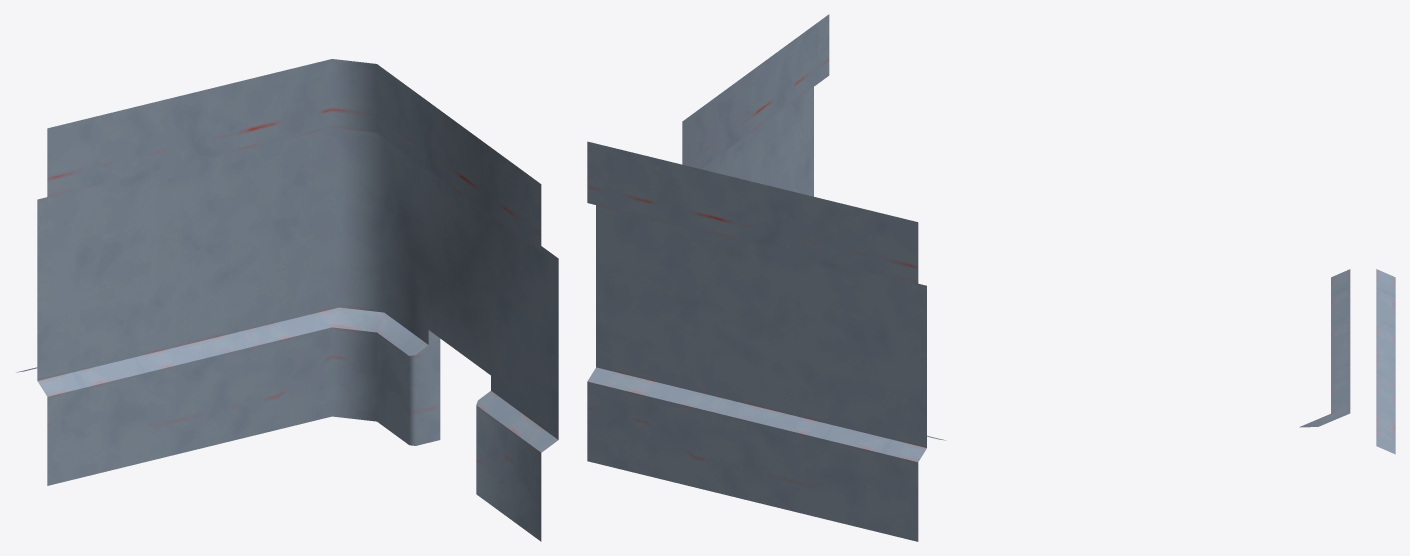
Rendered from Wall_MTNDoorCorner_B_1_F.glb.
3 renders of one model, left to right at view 1: azimuth 30°, elevation 25°; view 2: azimuth 150°, elevation 25°; view 3: azimuth 270°, elevation 25°, orthographic. The views are drawn at different scales.
Visible parts, largest first — view 1: Wall_MTNDoorCorner_B_1_F; view 2: Wall_MTNDoorCorner_B_1_F; view 3: Wall_MTNDoorCorner_B_1_F.
Boxes of the visible parts, x1,y1,x2,y2 form: Wall_MTNDoorCorner_B_1_F: (16, 59, 558, 541); Wall_MTNDoorCorner_B_1_F: (587, 14, 946, 541); Wall_MTNDoorCorner_B_1_F: (1299, 269, 1395, 454).
Size of the model in its own units: 6.5 by 6 by 6.5.
Materials: 1 (1 with a texture image).
